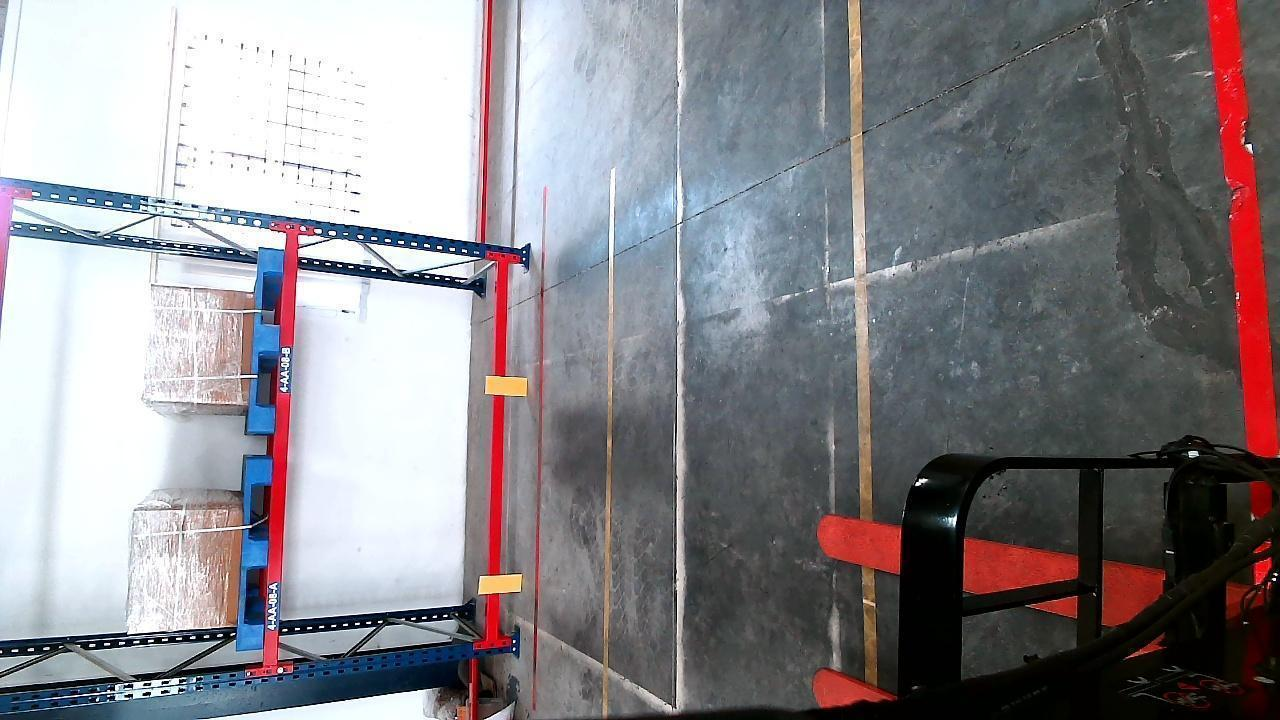red_line: (1207, 0, 1278, 456), (529, 186, 547, 709)
yellow_line: (601, 166, 617, 719)
